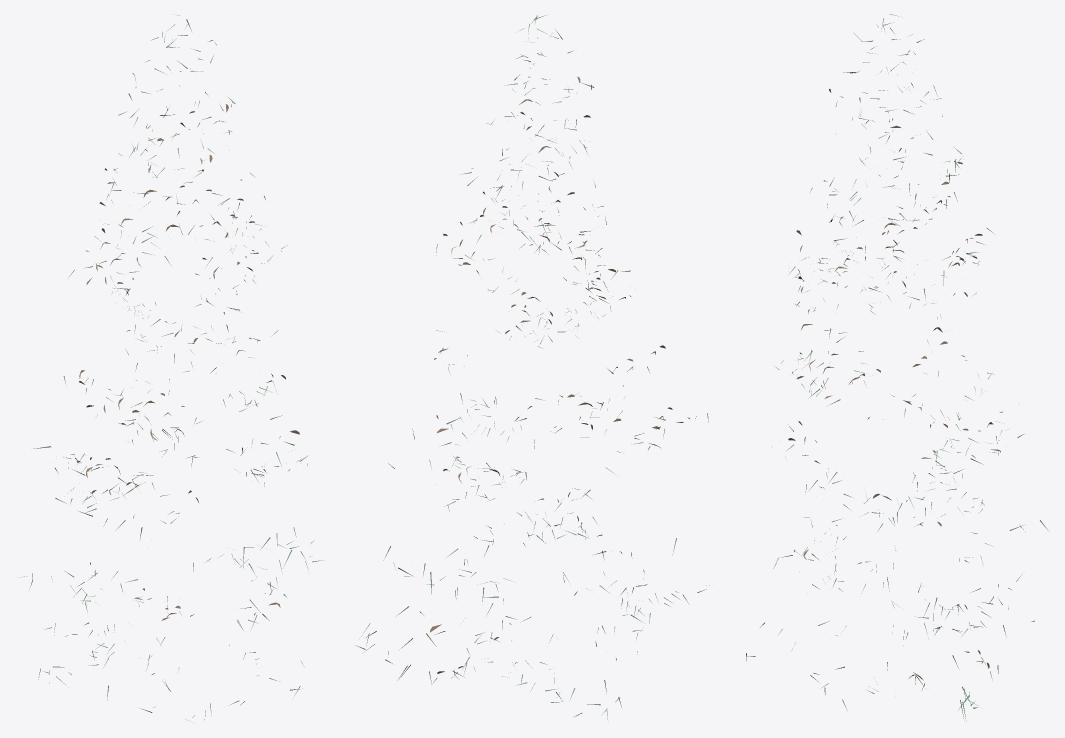
File: env_tree_fir.glb
The picture shows the model from 3 angles, left to right: view 1: azimuth 30°, elevation 25°; view 2: azimuth 150°, elevation 25°; view 3: azimuth 270°, elevation 25°; orthographic projection.
Visible parts, largest first — view 1: env_tree_fir_foliage, env_tree_fir_trunk; view 2: env_tree_fir_foliage, env_tree_fir_trunk; view 3: env_tree_fir_foliage, env_tree_fir_trunk.
Part boxes in pixels (bbox=[...]): env_tree_fir_foliage: bbox=[18, 15, 324, 720]; env_tree_fir_trunk: bbox=[77, 71, 299, 707]; env_tree_fir_foliage: bbox=[355, 15, 709, 721]; env_tree_fir_trunk: bbox=[419, 76, 689, 679]; env_tree_fir_foliage: bbox=[746, 14, 1048, 720]; env_tree_fir_trunk: bbox=[788, 51, 1002, 680].
Size of the model in its own units: 5.14 by 11.66 by 4.92.
